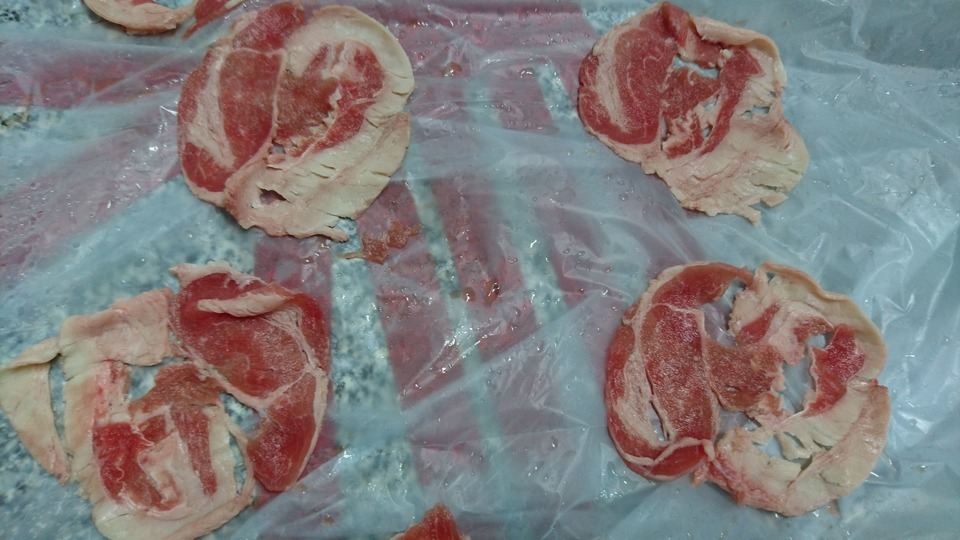restructured meat: (16, 245, 338, 540), (596, 260, 898, 511), (173, 2, 418, 248), (569, 2, 808, 224)
